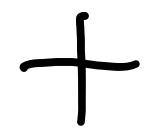plus: (20, 12, 140, 126)
